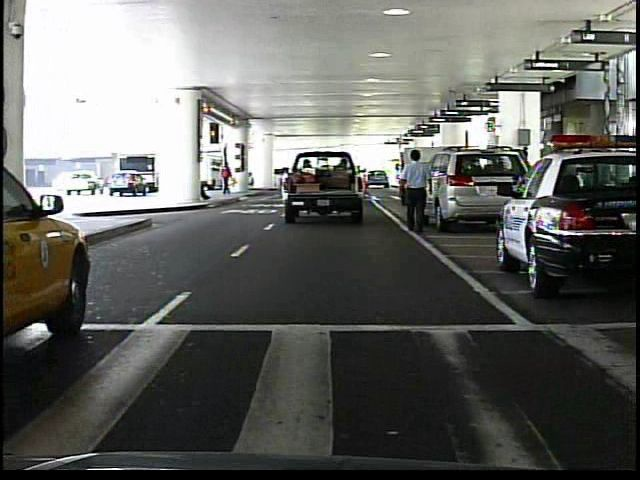person: (396, 144, 438, 234), (220, 161, 237, 197)
